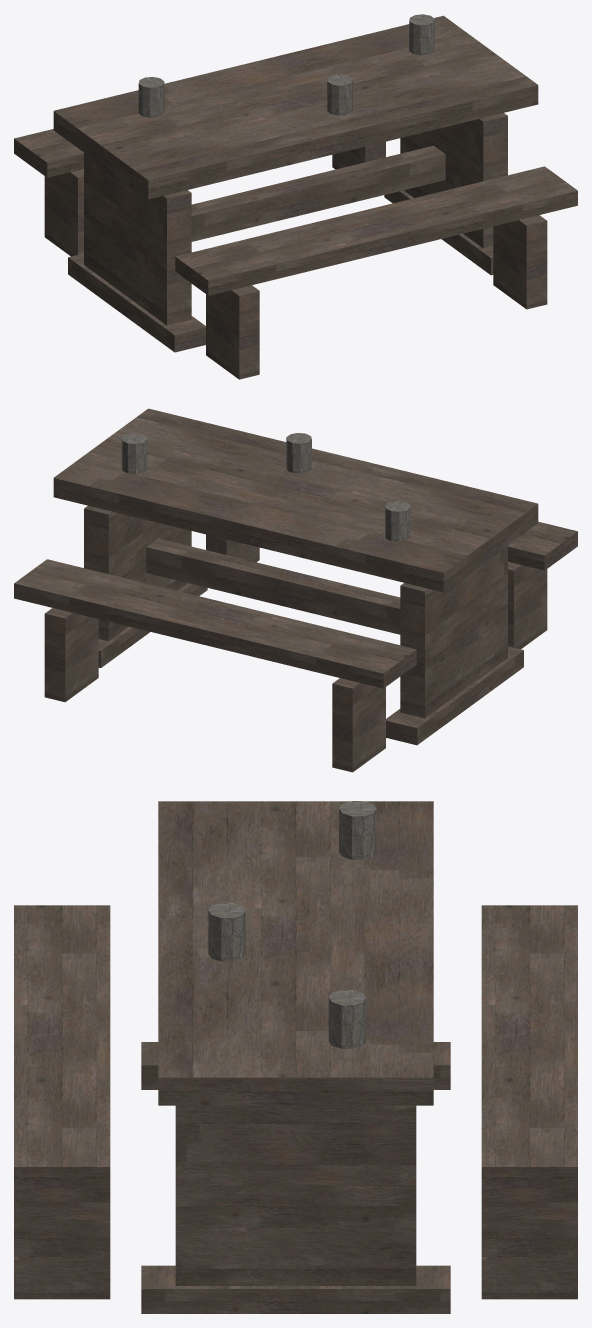
File: prop_trestle_set.glb
The picture shows the model from 3 angles, top to bottom: view 1: azimuth 30°, elevation 25°; view 2: azimuth 150°, elevation 25°; view 3: azimuth 270°, elevation 25°; orthographic projection. The views are drawn at different scales.
Parts seen in each view (by area): view 1: prop_trestle_set; view 2: prop_trestle_set; view 3: prop_trestle_set.
Boxes of the visible parts, bbox=[...] form: prop_trestle_set: bbox=[14, 14, 577, 379]; prop_trestle_set: bbox=[14, 408, 577, 772]; prop_trestle_set: bbox=[14, 801, 577, 1313].
Size of the model in its own units: 1.9 by 0.945 by 1.64.
Materials: 2 (2 with a texture image).
